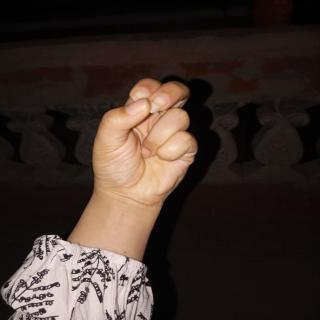QAAF: (76, 69, 208, 226)
